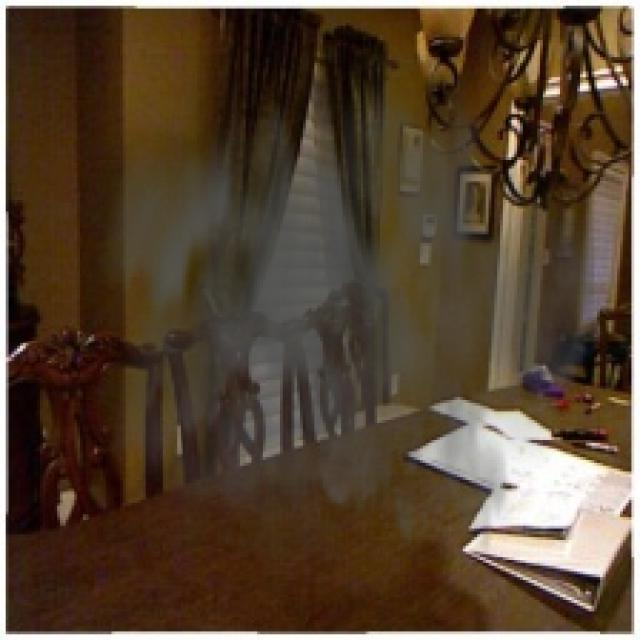smoke: (66, 54, 594, 606)
